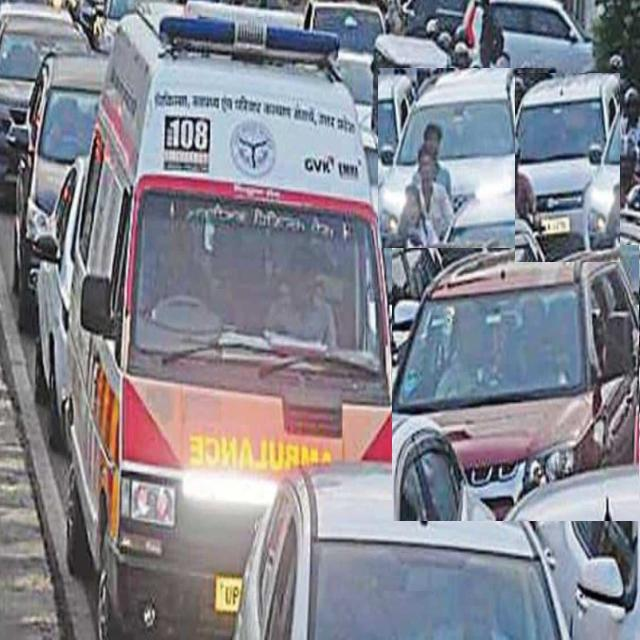car: (392, 245, 640, 521), (379, 68, 548, 248), (515, 74, 620, 262)
emergency: (66, 16, 396, 637)
